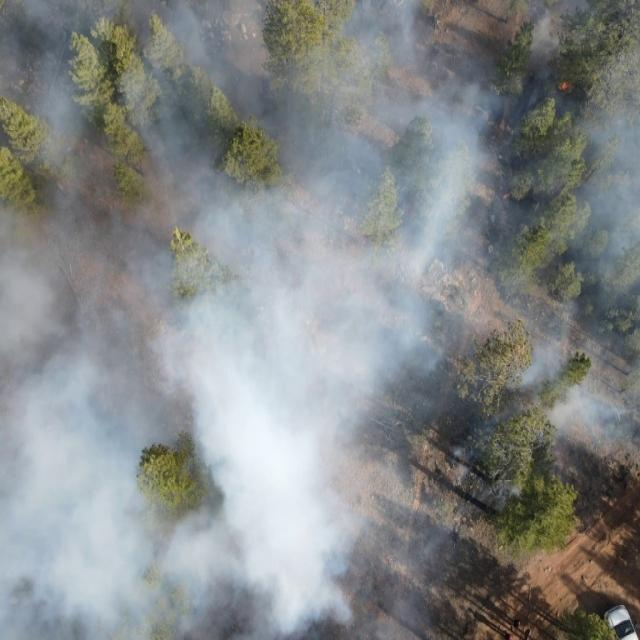fire: (500, 190, 513, 200), (560, 80, 568, 91)
smoke: (0, 0, 456, 640), (456, 0, 640, 524)
